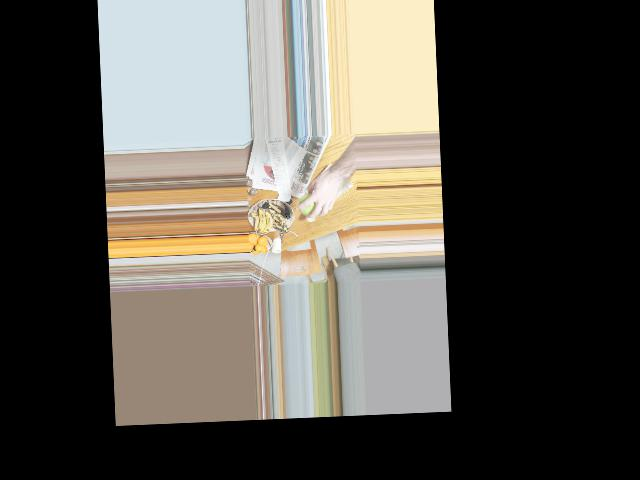apple: (298, 191, 322, 217)
